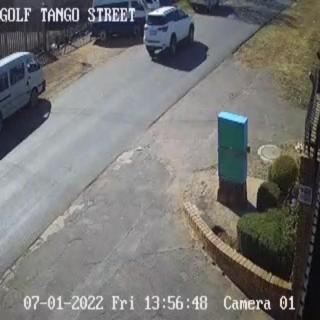car: (0, 48, 51, 159), (143, 5, 196, 58), (90, 0, 149, 40)
